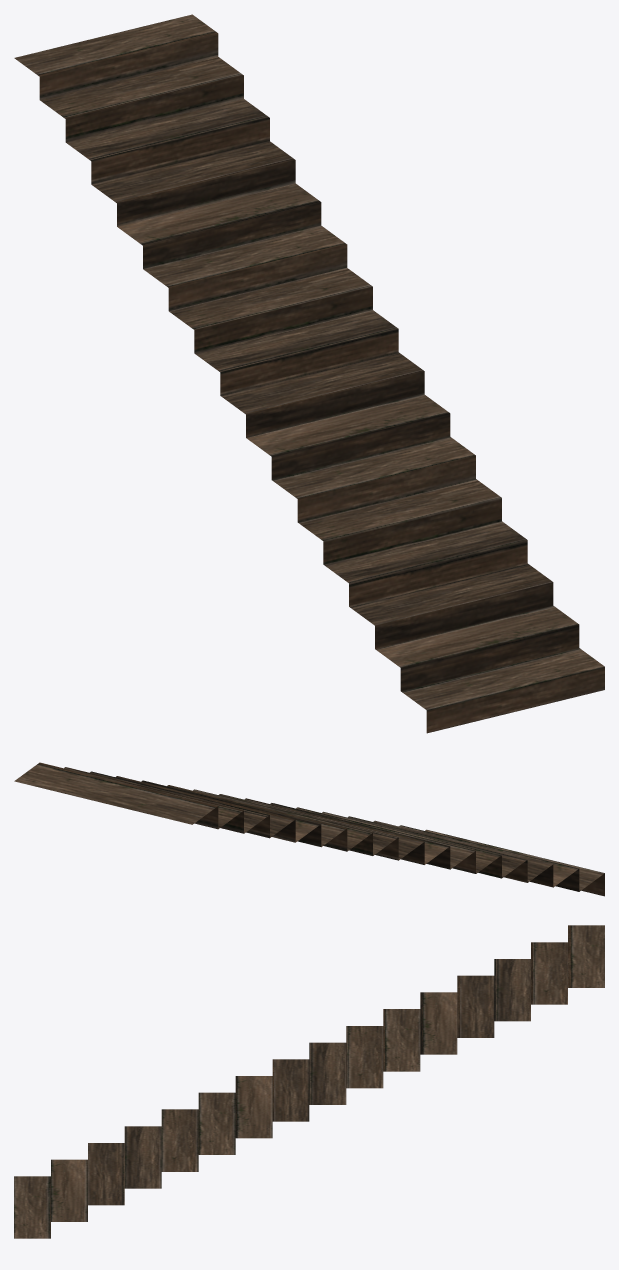
The model's file is stairs_002.obj.
The picture shows the model from 3 angles, top to bottom: view 1: azimuth 30°, elevation 25°; view 2: azimuth 150°, elevation 25°; view 3: azimuth 270°, elevation 25°; orthographic projection. The views are drawn at different scales.
Visible parts, largest first — view 1: Stairs_Narrow_Full; view 2: Stairs_Narrow_Full; view 3: Stairs_Narrow_Full.
Boxes of the visible parts, <box> form: Stairs_Narrow_Full: <box>14,14,604,733</box>; Stairs_Narrow_Full: <box>14,762,604,896</box>; Stairs_Narrow_Full: <box>14,925,604,1238</box>.
Bounding box in the file's own units: 1.5 × 3 × 6.
1 material, 1 textured.
